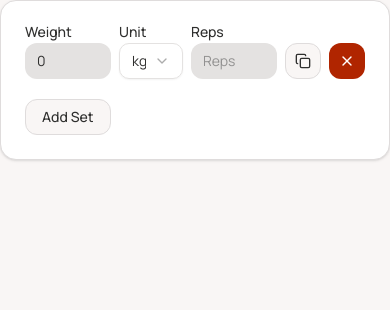
Scenario: AddSets › inserts duplicated set directly after the original
# Add a second set so we have set 1 and set 2
Click the button "Add Set" at (68, 117), box [25, 99, 110, 135]
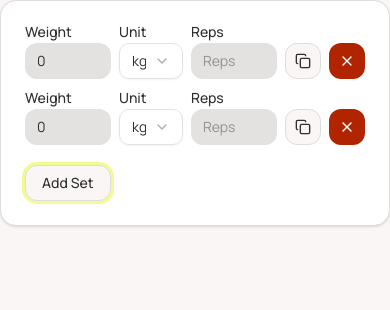
# Duplicate set 1 — should insert a copy between set 1 and set 2
Click the button named "Duplicate set 1" at (303, 61), box [285, 43, 321, 79]
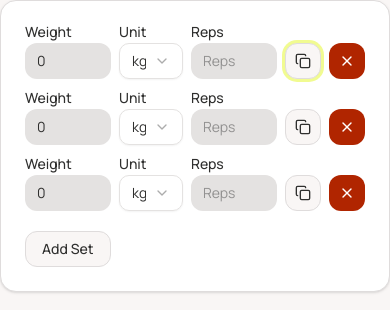
Result: the button named "Duplicate set 3" is shown at [285, 175, 321, 211]
